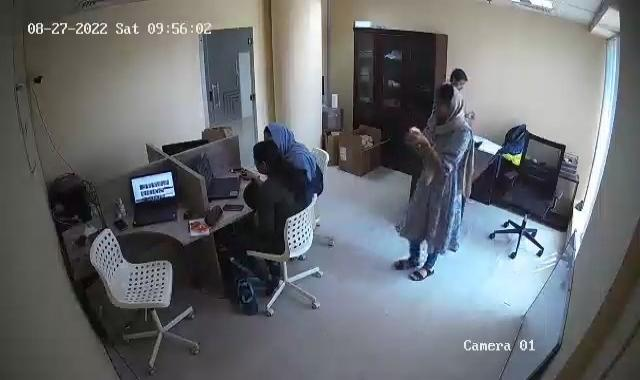no_hairnet: (259, 119, 295, 149), (432, 84, 462, 119), (251, 138, 276, 173), (452, 63, 469, 88)
